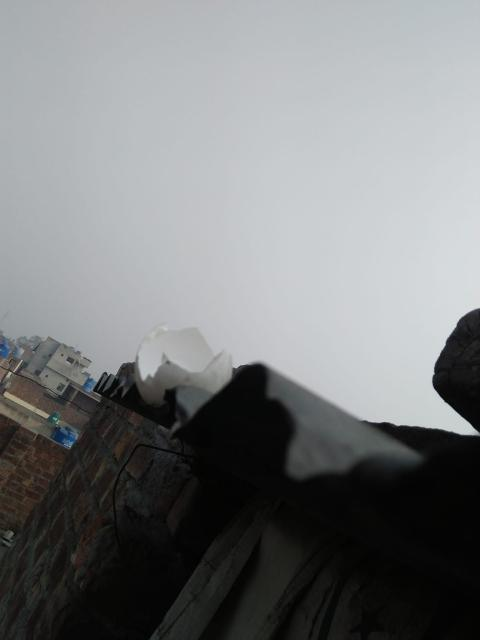Roto: (132, 322, 234, 409)
